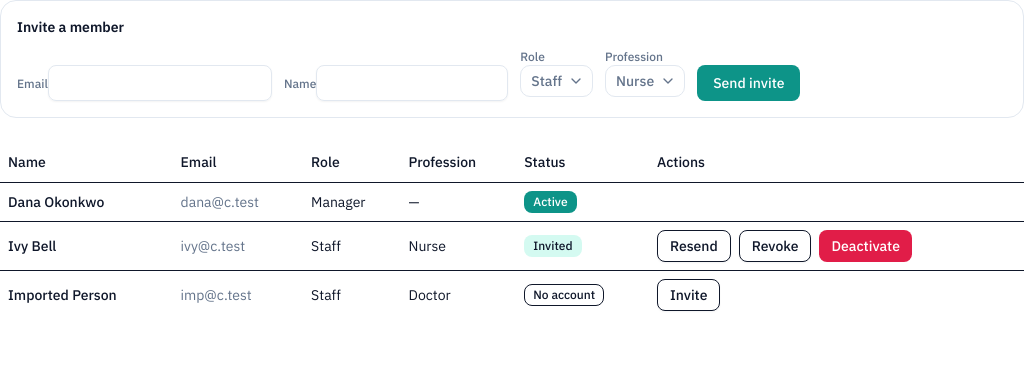
Test: MembersTable › surfaces an error, without an unhandled rejection, when a mutation fetch rejects outright
Type "fresh@c.test" into the field labelled "Email" at point(160, 83), box top-left (48, 65), bottom-right (272, 101)
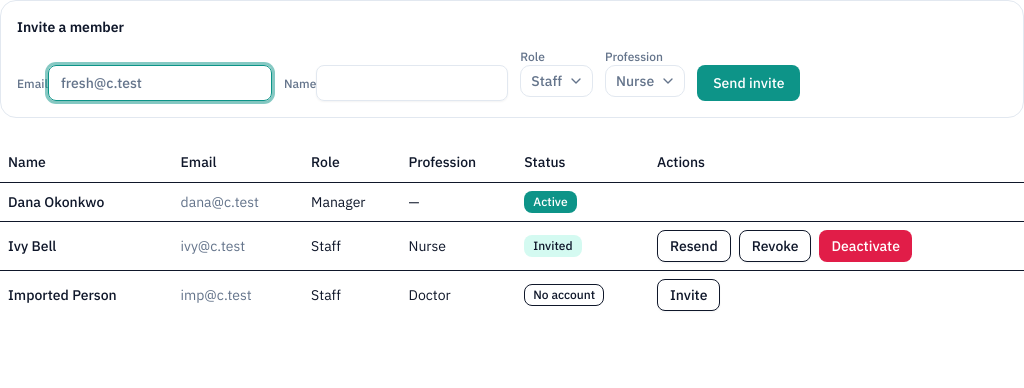
Type "Fresh Face" into the field labelled "Name" at point(412, 83), box top-left (316, 65), bottom-right (508, 101)
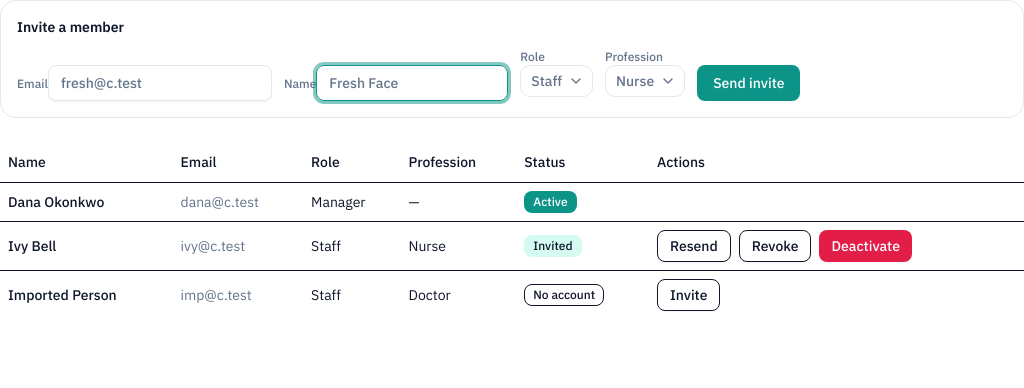
Click the button "Send invite" at point(749, 83), box top-left (697, 65), bottom-right (800, 101)
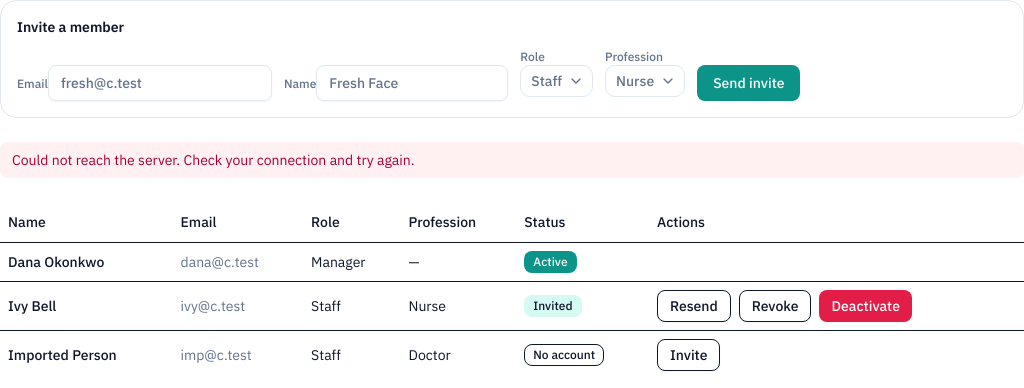
Expected: the message "Could not reach the server. Check your connection and try again." is shown, top-left (0, 142), bottom-right (1023, 178)
